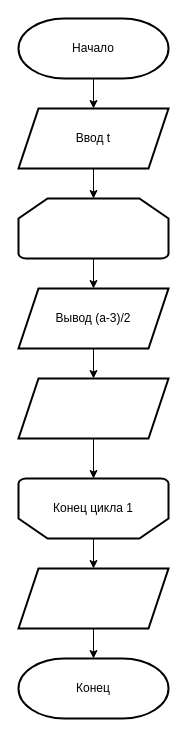
Image size: 186x736. Some labels were removed from this diagram. Here are the shapes that lost their labels. From the top down, the box of each, then its label:
(17, 197, 169, 259): Начало цикла1
(17, 377, 169, 439): Ввод n
(17, 567, 169, 629): sqrt(2*n-1)-1)/2
